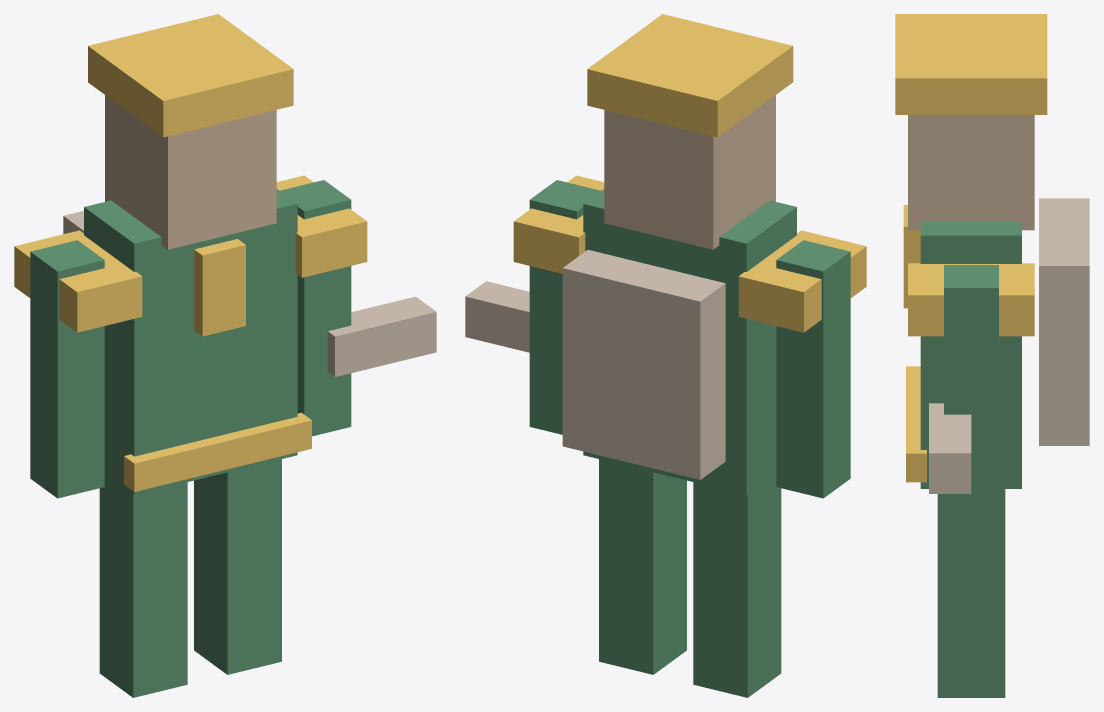
File: 16_elo_skyharrow_tactician_of.glb
The picture shows the model from 3 angles, left to right: view 1: azimuth 30°, elevation 25°; view 2: azimuth 150°, elevation 25°; view 3: azimuth 270°, elevation 25°; orthographic projection.
Parts seen in each view (by area): view 1: Elo Skyharrow, Tactician of; view 2: Elo Skyharrow, Tactician of; view 3: Elo Skyharrow, Tactician of.
Boxes of the visible parts, x1=… form: Elo Skyharrow, Tactician of: x1=14, y1=14, x2=436, y2=697; Elo Skyharrow, Tactician of: x1=465, y1=14, x2=866, y2=697; Elo Skyharrow, Tactician of: x1=895, y1=14, x2=1089, y2=697.
Bounding box in the file's own units: 0.9625 × 1.51 × 0.4319.
